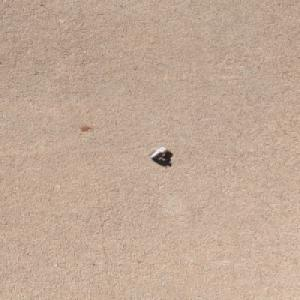MetalPart: (147, 146, 169, 162)
